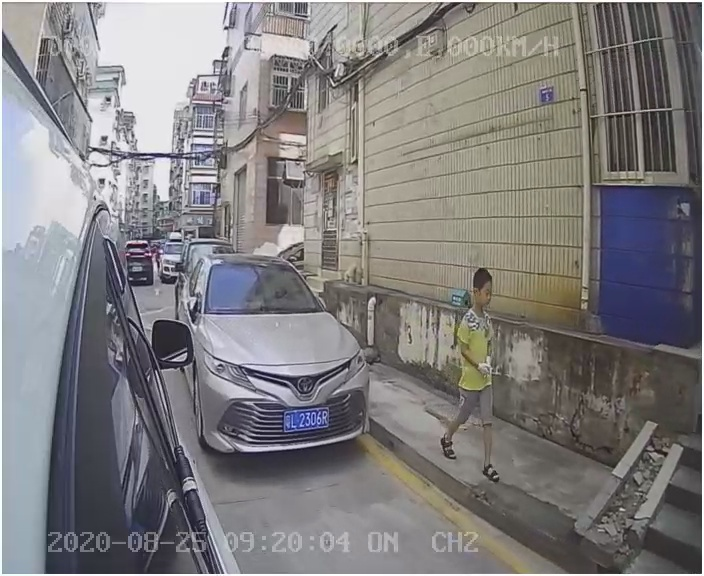person: (430, 268, 521, 482)
